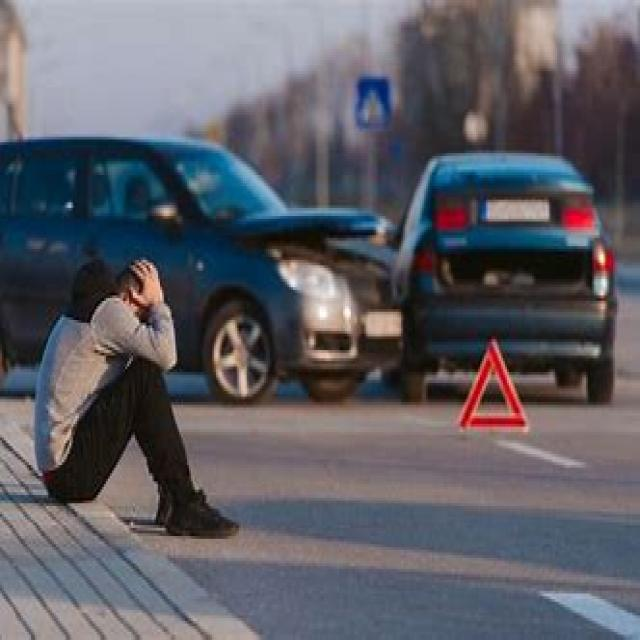Accident: (210, 83, 527, 478)
